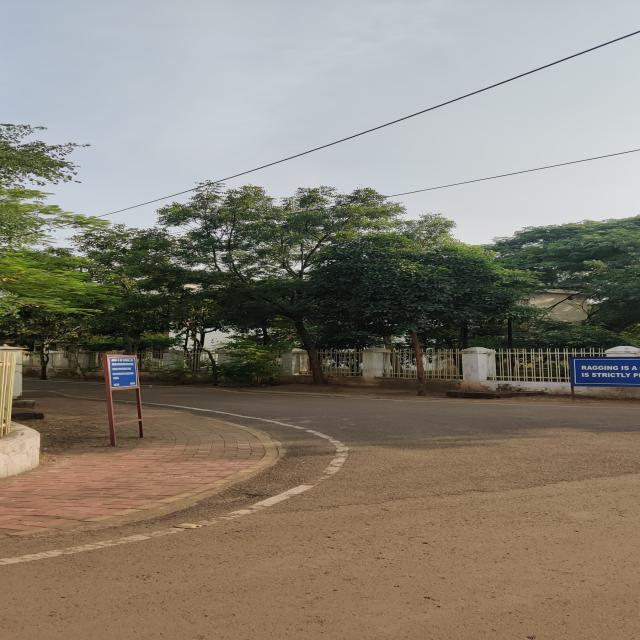Neem Tree: (148, 202, 332, 323)
